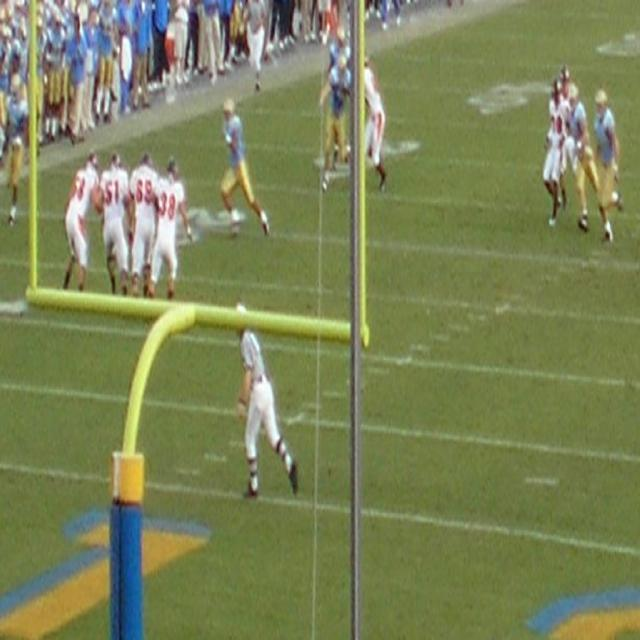Person: (542, 78, 566, 225)
